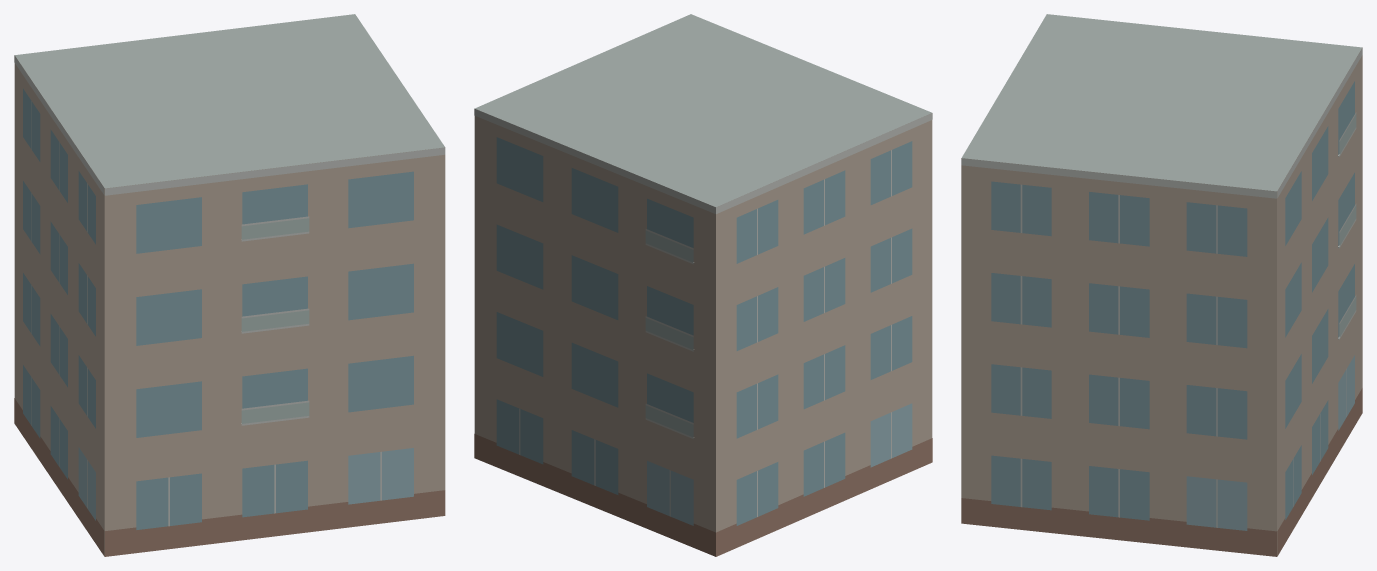
The model's file is residential-0e53cd43-705d-4c35-8d1a-4bcec2e3af7f.glb.
3 views of the same model, side by side, from view 1: azimuth 30°, elevation 25°; view 2: azimuth 150°, elevation 25°; view 3: azimuth 270°, elevation 25° (orthographic). The views are drawn at different scales.
Parts seen in each view (by area): view 1: residential-0e53cd43-705d-4c35-8d1a-4bcec2e3af7f.tmp; view 2: residential-0e53cd43-705d-4c35-8d1a-4bcec2e3af7f.tmp; view 3: residential-0e53cd43-705d-4c35-8d1a-4bcec2e3af7f.tmp.
Part boxes in pixels (bbox=[...]): residential-0e53cd43-705d-4c35-8d1a-4bcec2e3af7f.tmp: bbox=[14, 14, 445, 556]; residential-0e53cd43-705d-4c35-8d1a-4bcec2e3af7f.tmp: bbox=[474, 14, 932, 556]; residential-0e53cd43-705d-4c35-8d1a-4bcec2e3af7f.tmp: bbox=[961, 14, 1362, 556].
Bounding box in the file's own units: 12.71 × 12.2 × 12.15.
